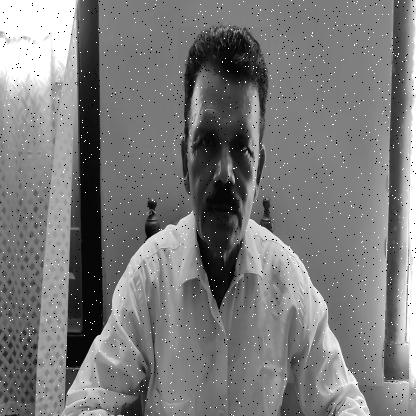Normal: (178, 27, 271, 259)
